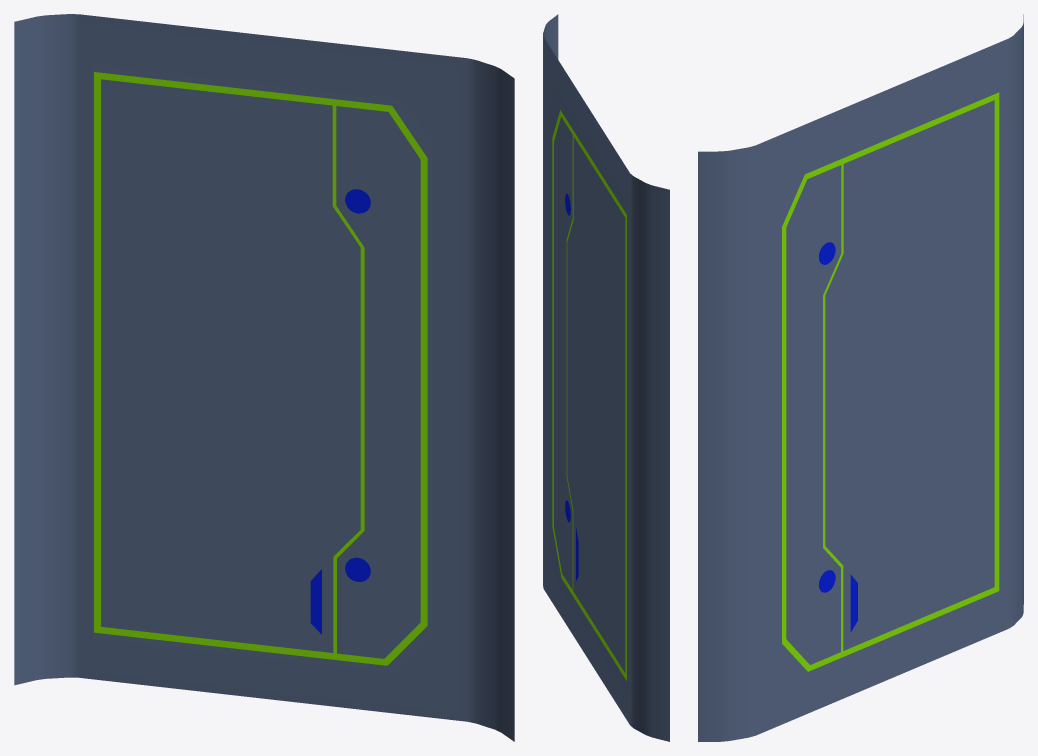
Rendered from Building_Wall_02f_snaps016.fbx.
3 renders of one model, left to right at view 1: azimuth 30°, elevation 25°; view 2: azimuth 150°, elevation 25°; view 3: azimuth 270°, elevation 25°, orthographic. The views are drawn at different scales.
Parts seen in each view (by area): view 1: Building_Wall_02f_snaps016_LOD0; view 2: Building_Wall_02f_snaps016_LOD0; view 3: Building_Wall_02f_snaps016_LOD0.
Part boxes in pixels (<box>): Building_Wall_02f_snaps016_LOD0: <box>14,14,514,741</box>; Building_Wall_02f_snaps016_LOD0: <box>543,14,669,741</box>; Building_Wall_02f_snaps016_LOD0: <box>698,14,1023,741</box>.
Size of what is drawn, in the model's own units: 3 by 3 by 6.
